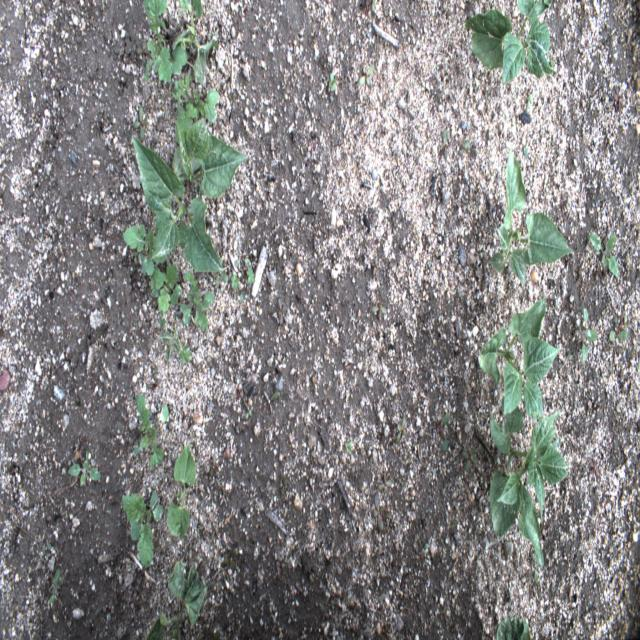crop: (489, 397, 569, 570), (131, 134, 224, 273), (487, 146, 573, 286), (479, 299, 562, 418), (462, 0, 554, 84), (171, 117, 248, 198), (146, 560, 208, 639), (172, 0, 218, 83), (168, 441, 197, 540), (160, 316, 192, 364), (496, 614, 530, 640)
weed: (143, 0, 188, 84), (122, 488, 164, 566), (173, 75, 219, 144), (134, 393, 168, 469), (122, 224, 168, 276), (180, 272, 214, 332), (150, 264, 183, 314), (587, 232, 619, 278), (68, 447, 102, 489), (572, 308, 597, 363), (231, 259, 254, 301), (48, 566, 66, 608), (608, 310, 632, 340), (436, 412, 450, 452), (134, 104, 148, 141), (373, 493, 384, 531), (396, 414, 410, 443), (462, 447, 478, 472), (264, 390, 280, 414), (216, 258, 229, 287), (358, 64, 375, 86), (224, 548, 237, 570), (371, 302, 386, 321), (378, 472, 392, 492), (438, 130, 448, 158), (458, 138, 470, 155), (328, 71, 338, 91), (479, 434, 488, 455), (210, 454, 217, 475), (210, 626, 221, 639), (311, 452, 322, 464), (280, 474, 286, 494), (42, 542, 52, 554), (532, 569, 540, 582), (345, 441, 352, 454), (245, 408, 252, 420), (527, 94, 532, 109), (372, 0, 376, 14), (244, 259, 252, 266)
